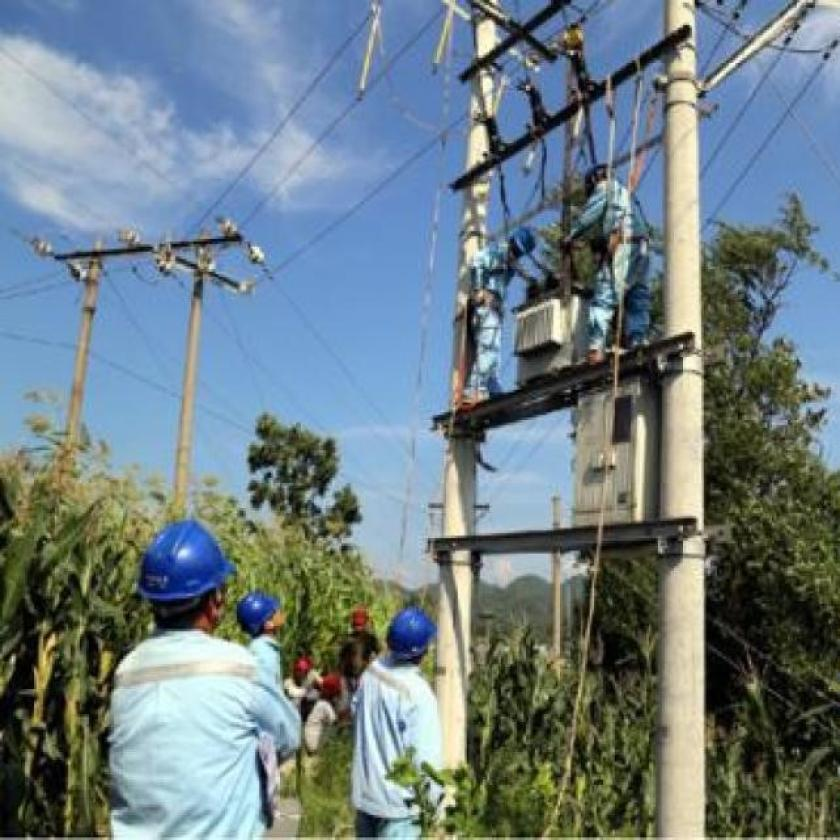Con_casco: (131, 508, 244, 641), (237, 590, 290, 646), (386, 610, 430, 673)
